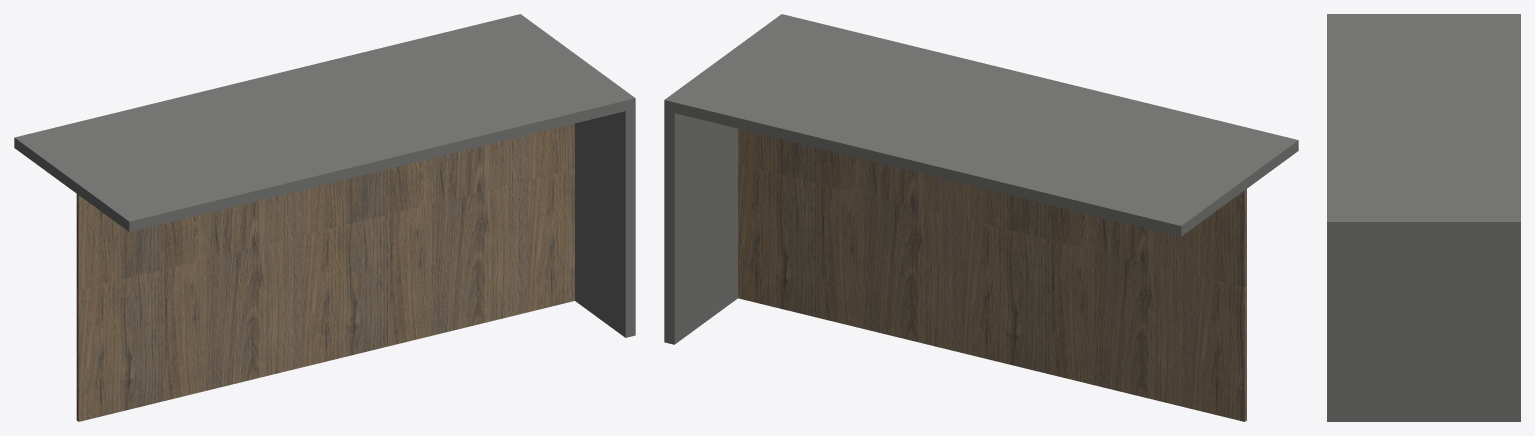
Rendered from Meson1.fbx.
The picture shows the model from 3 angles, left to right: view 1: azimuth 30°, elevation 25°; view 2: azimuth 150°, elevation 25°; view 3: azimuth 270°, elevation 25°; orthographic projection. The views are drawn at different scales.
Parts seen in each view (by area): view 1: Group2, Group3; view 2: Group2, Group3; view 3: Group3.
Part boxes in pixels (x1,y1,x2,y2): Group2: (76,123,574,421); Group3: (14,14,635,337); Group2: (738,128,1246,421); Group3: (664,14,1298,344); Group3: (1327,14,1520,421).
Size of the model in its own units: 79.53 by 35.63 by 31.3.
